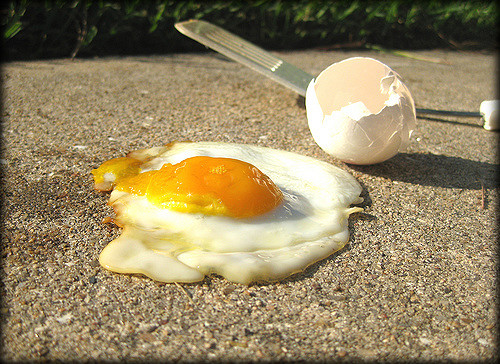fried egg: (103, 144, 328, 267)
